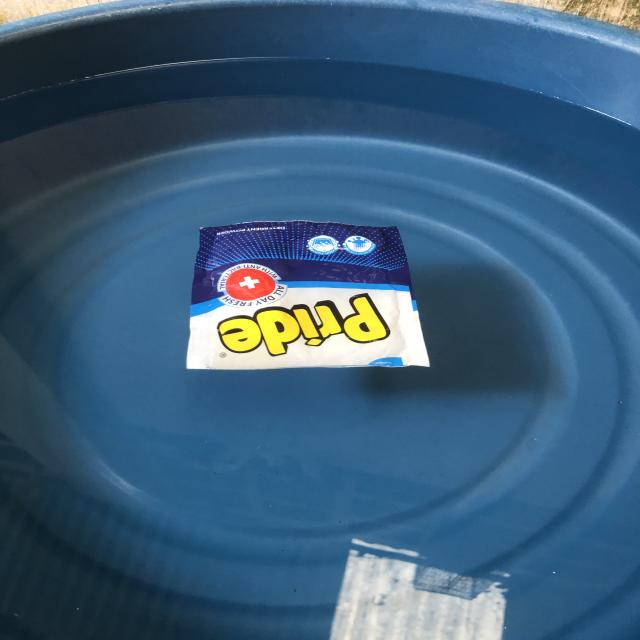Plastic Wrapper: (186, 221, 428, 369)
